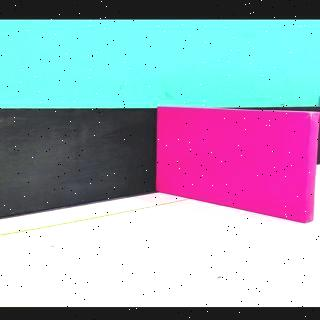xparking: (163, 123, 313, 221)
